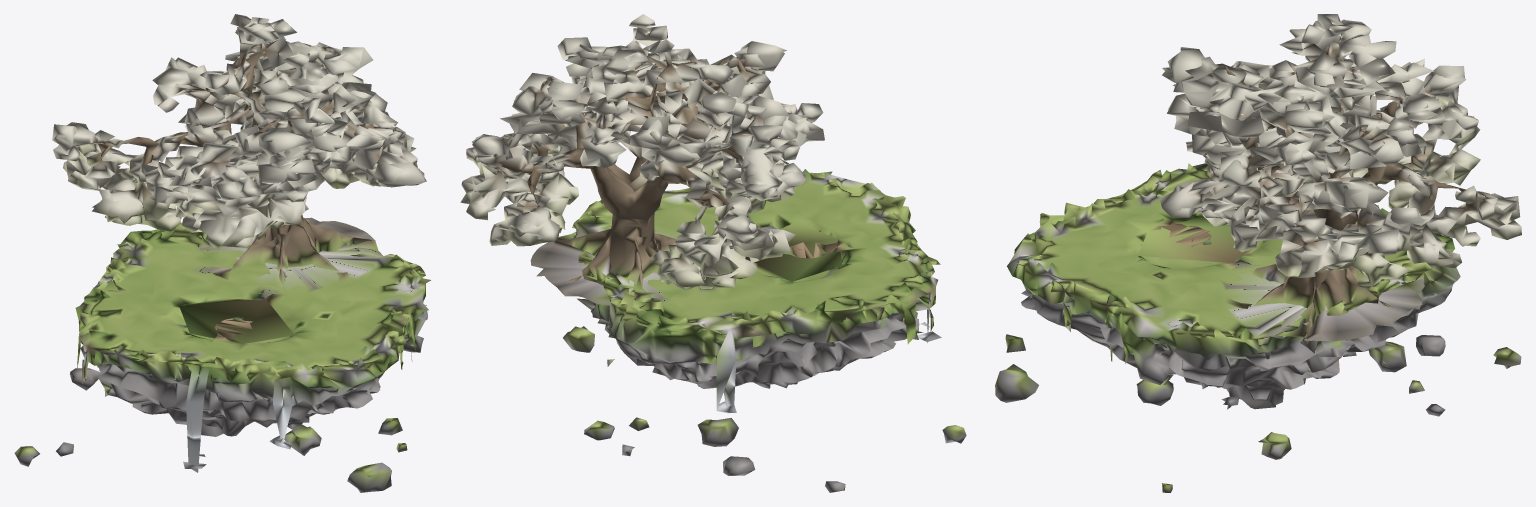
Rendered from community.glb.
3 views of the same model, side by side, from view 1: azimuth 30°, elevation 25°; view 2: azimuth 150°, elevation 25°; view 3: azimuth 270°, elevation 25° (orthographic). The views are drawn at different scales.
Bounding box in the file's own units: 33.51 × 29.89 × 32.6.
